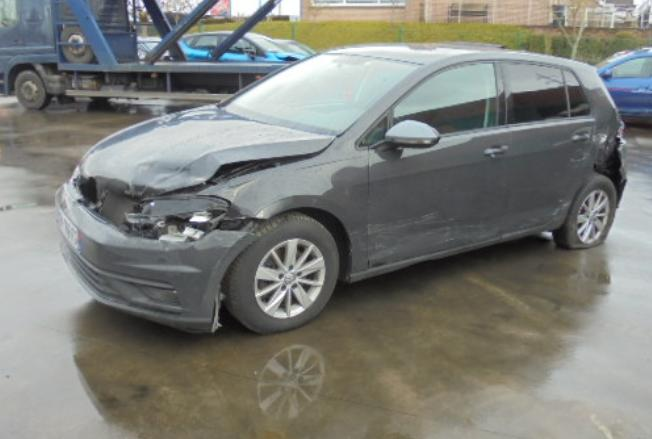Back-door: (499, 55, 597, 233)
Back-wheel: (552, 172, 617, 250)
Back-window: (507, 64, 590, 123)
Fender: (197, 130, 369, 275)
Front-bumper: (55, 181, 258, 336)
Front-door: (354, 54, 514, 268)
Front-wheel: (223, 209, 342, 333)
Front-window: (393, 61, 498, 135)
Headlight: (113, 194, 231, 242), (69, 165, 82, 192)
Hood: (78, 104, 336, 207)
License-plate: (56, 203, 83, 259)
Mirror: (373, 119, 443, 153)
Quarter-panel: (554, 108, 628, 217)
Rocker-panel: (342, 214, 568, 285)
Roof: (317, 41, 551, 64)
Windshield: (217, 53, 422, 135)
